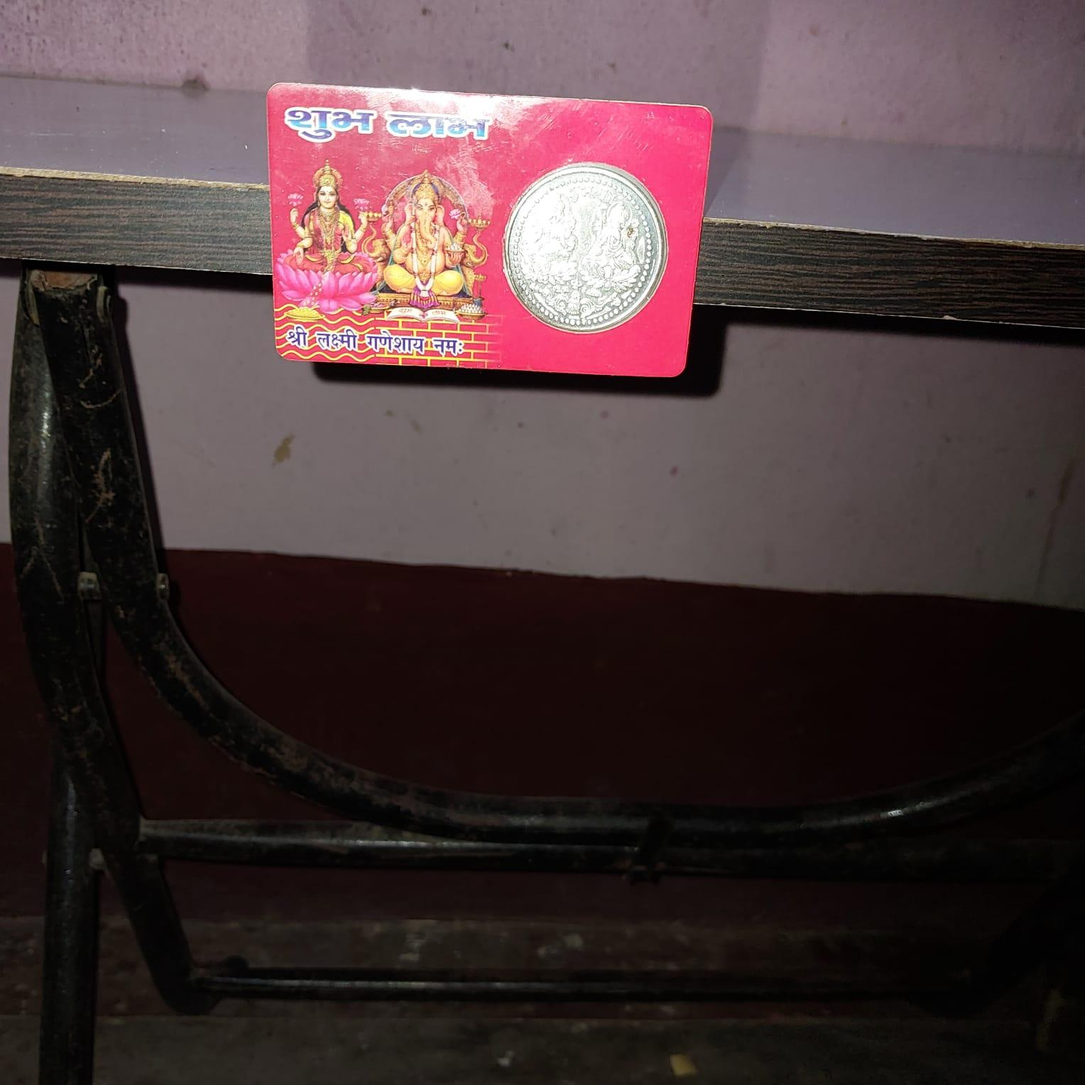blessing_card: (266, 66, 712, 393)
